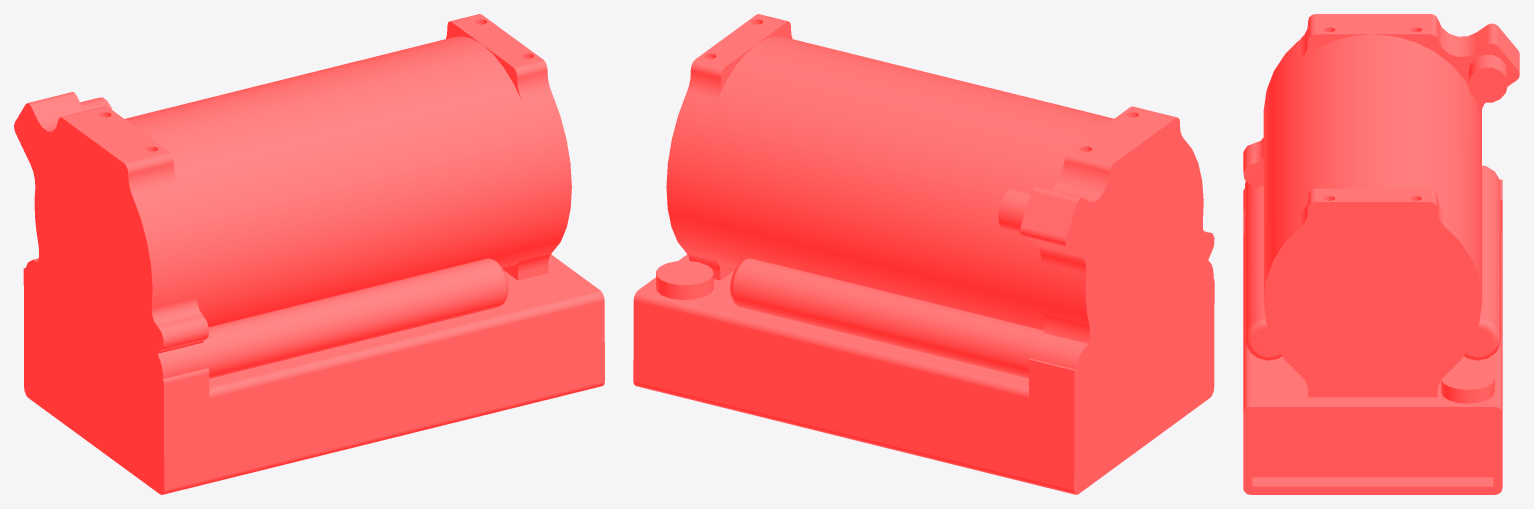
Rendered from didson.dae.
The picture shows the model from 3 angles, left to right: view 1: azimuth 30°, elevation 25°; view 2: azimuth 150°, elevation 25°; view 3: azimuth 270°, elevation 25°; orthographic projection. The views are drawn at different scales.
Visible parts, largest first — view 1: PartBody; view 2: PartBody; view 3: PartBody.
Part boxes in pixels (bbox=[...]): PartBody: bbox=[14, 14, 604, 494]; PartBody: bbox=[633, 14, 1214, 494]; PartBody: bbox=[1243, 14, 1519, 494].
Bounding box in the file's own units: 311 × 183 × 207.
